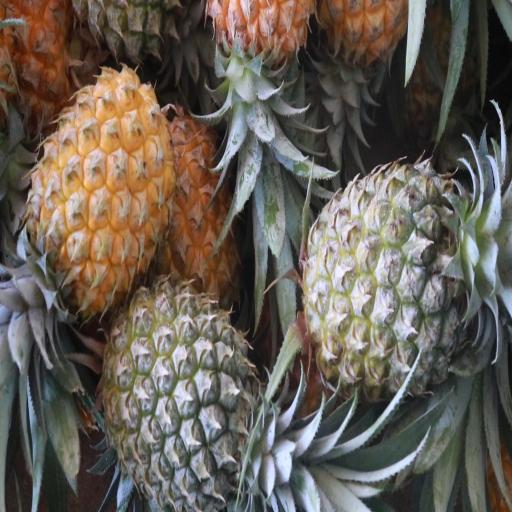Pineapple - v8 v1: (30, 65, 177, 309), (159, 118, 243, 314)
